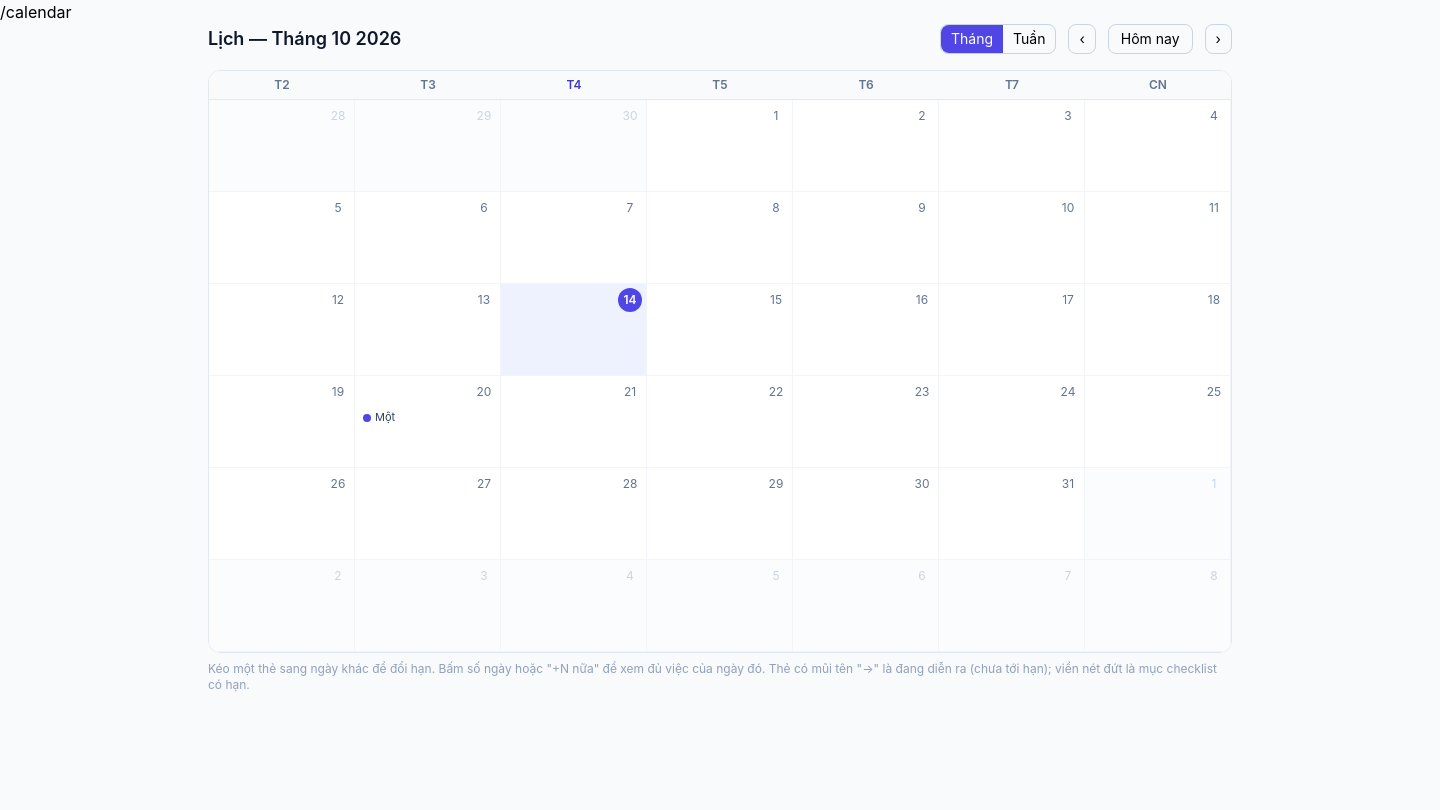
Test: CalendarPage › closes the dialog on Escape and from the close button
The image size is (1440, 810).
Expected: the text "Một" is shown, [375,410,395,426]
Click the button named "Xem 1 việc ngày 20/10".
click(484, 392)  # box [472,380,496,404]
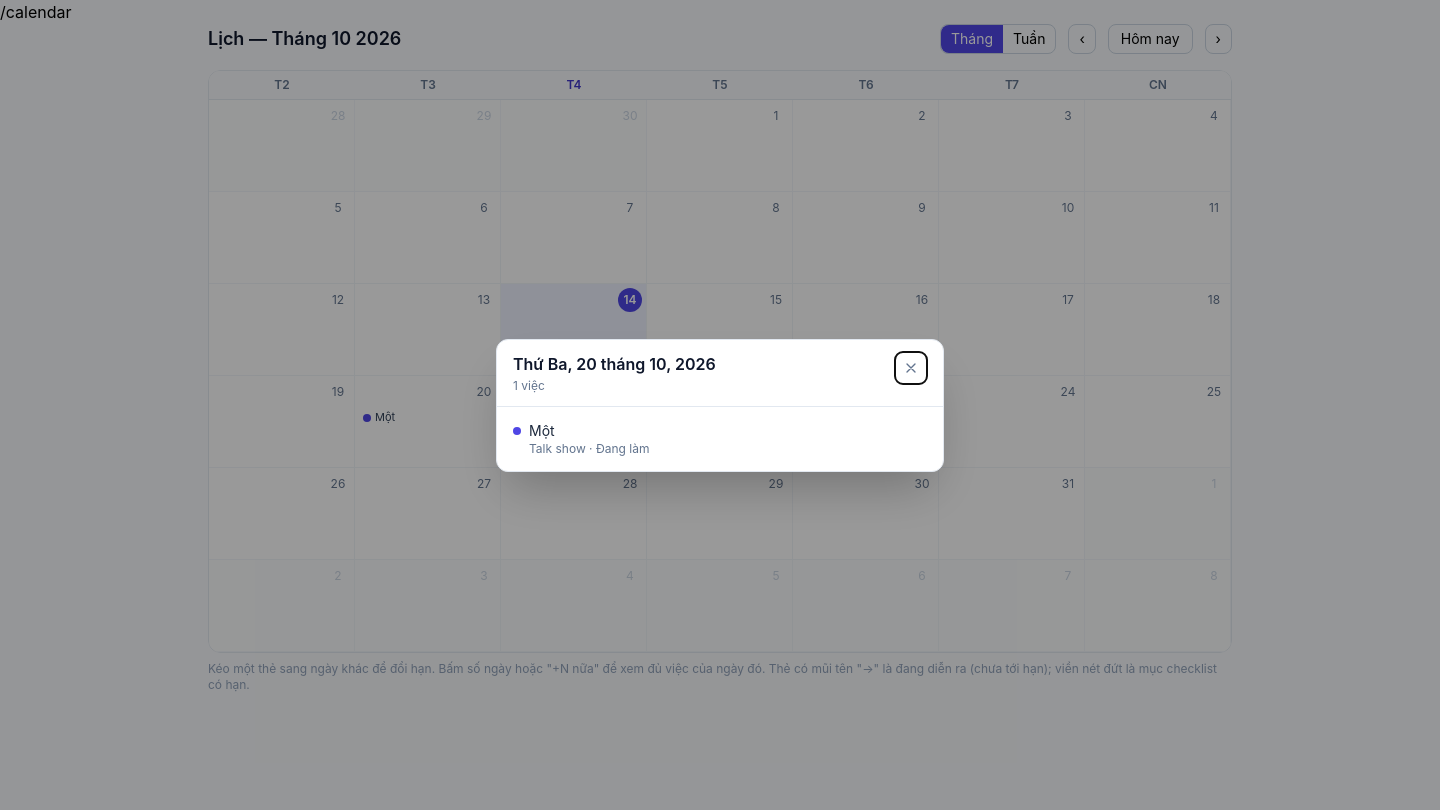
Press Escape
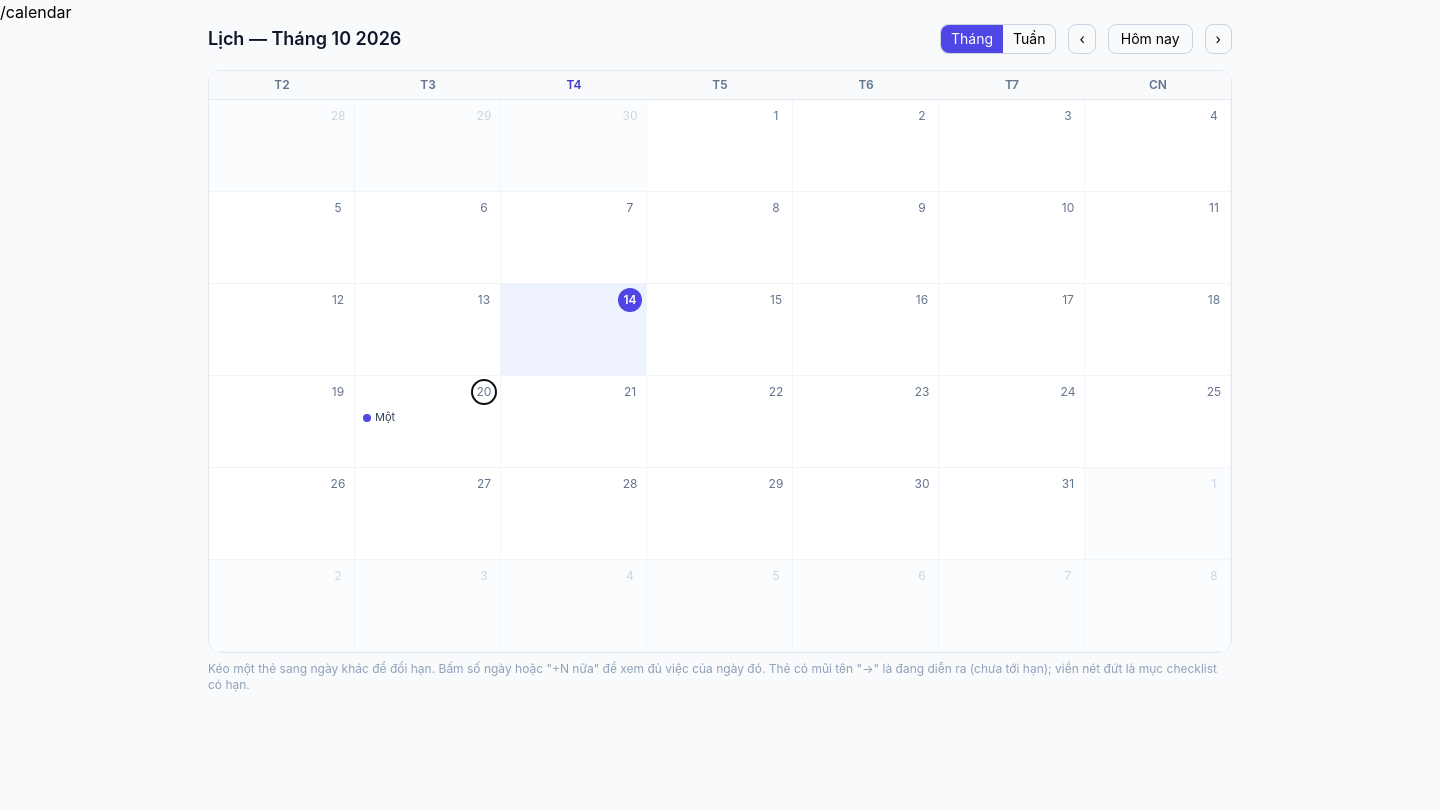
Expected: the dialog is gone
Click the button named "Xem 1 việc ngày 20/10".
click(484, 392)  # box [472,380,496,404]
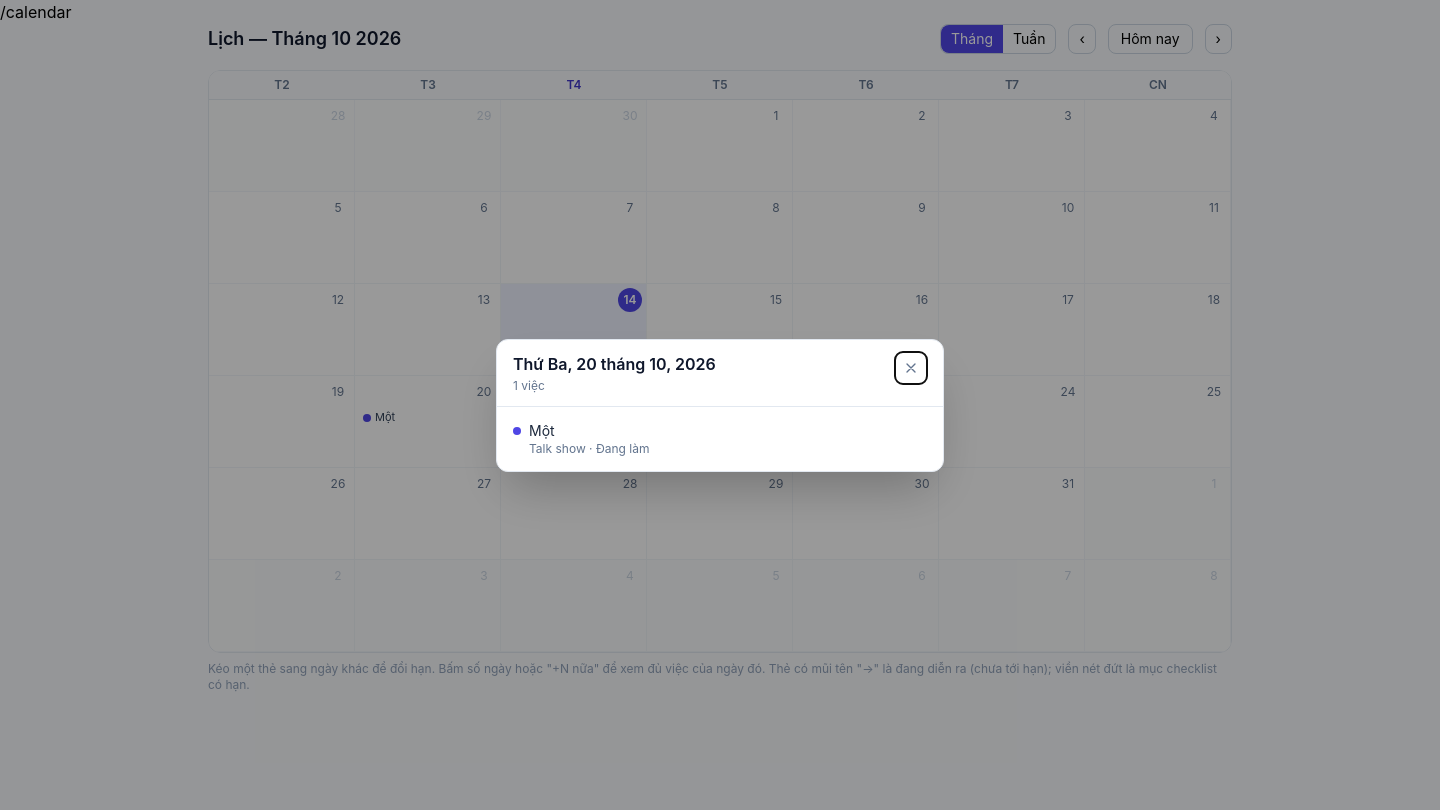
Click the button named "Đóng".
click(911, 368)  # box [895,352,927,384]
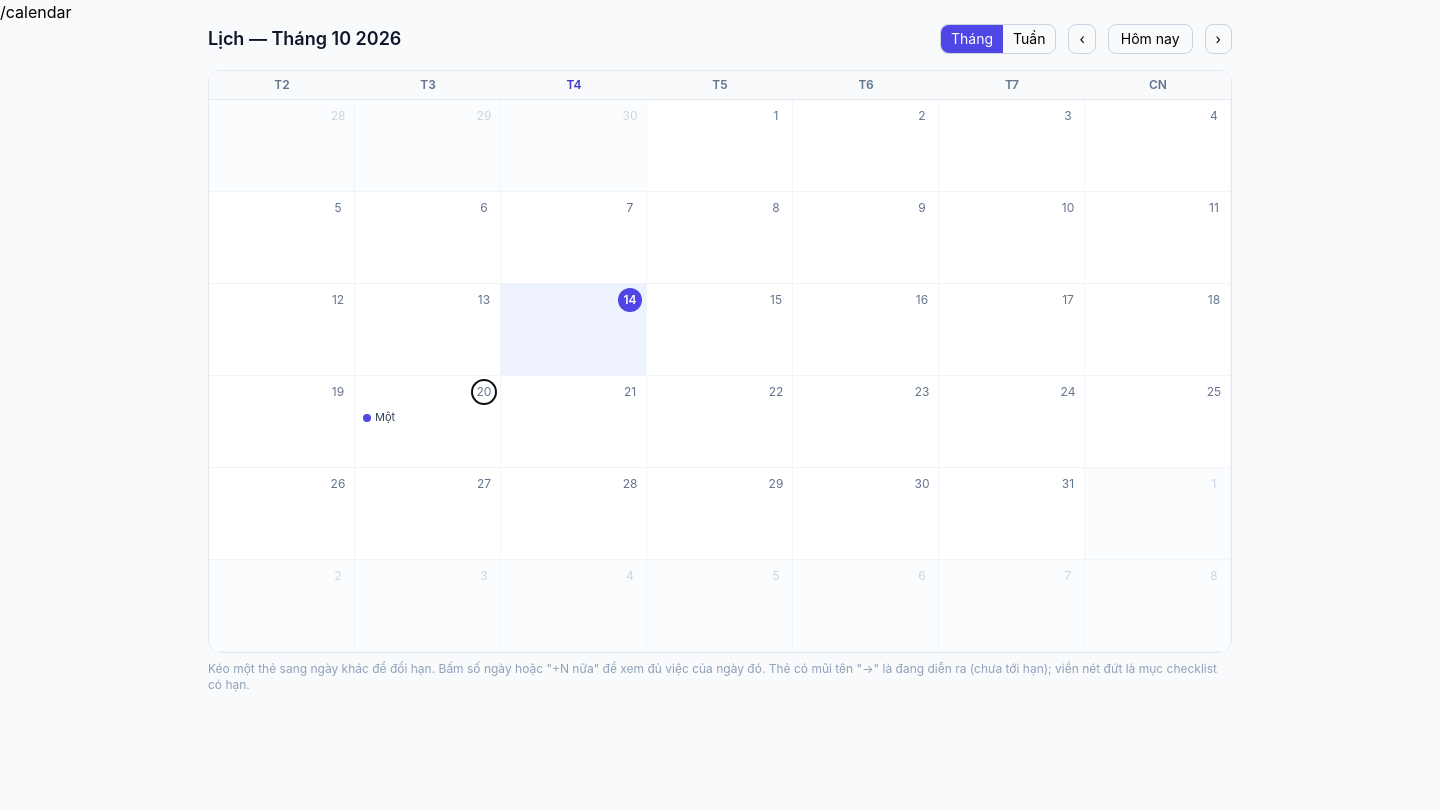
Expected: the dialog is gone
